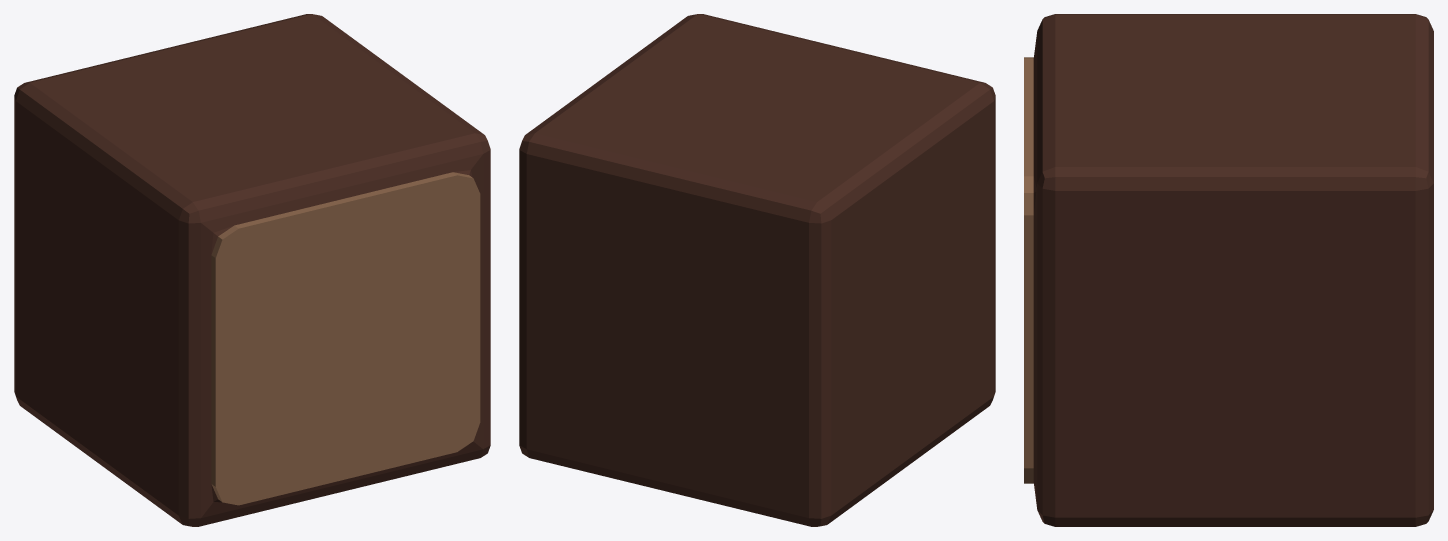
File: shelfv2.fbx
The picture shows the model from 3 angles, left to right: view 1: azimuth 30°, elevation 25°; view 2: azimuth 150°, elevation 25°; view 3: azimuth 270°, elevation 25°; orthographic projection. The views are drawn at different scales.
Visible parts, largest first — view 1: shelf_v2; view 2: shelf_v2; view 3: shelf_v2.
Boxes of the visible parts, <box> form: shelf_v2: <box>14,14,490,526</box>; shelf_v2: <box>519,14,995,526</box>; shelf_v2: <box>1024,14,1433,526</box>.
Bounding box in the file's own units: 200 × 200 × 207.
1 material, 1 textured.
